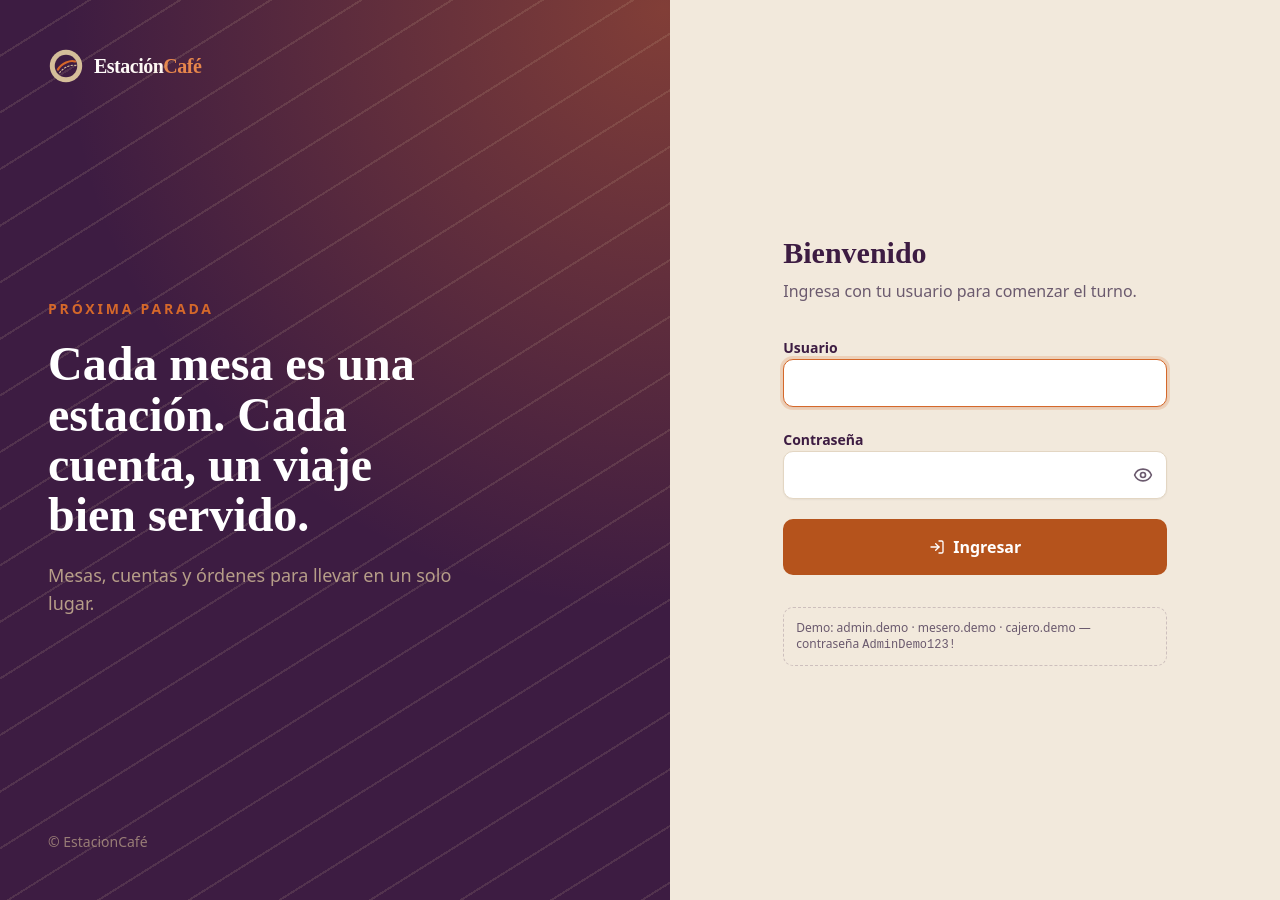
Test: Autenticación y navegación por rol › el mesero entra a su panel de mesas
In the field labelled "Usuario": coordinates (975, 382) [783,358,1167,406], type "mesero.demo"
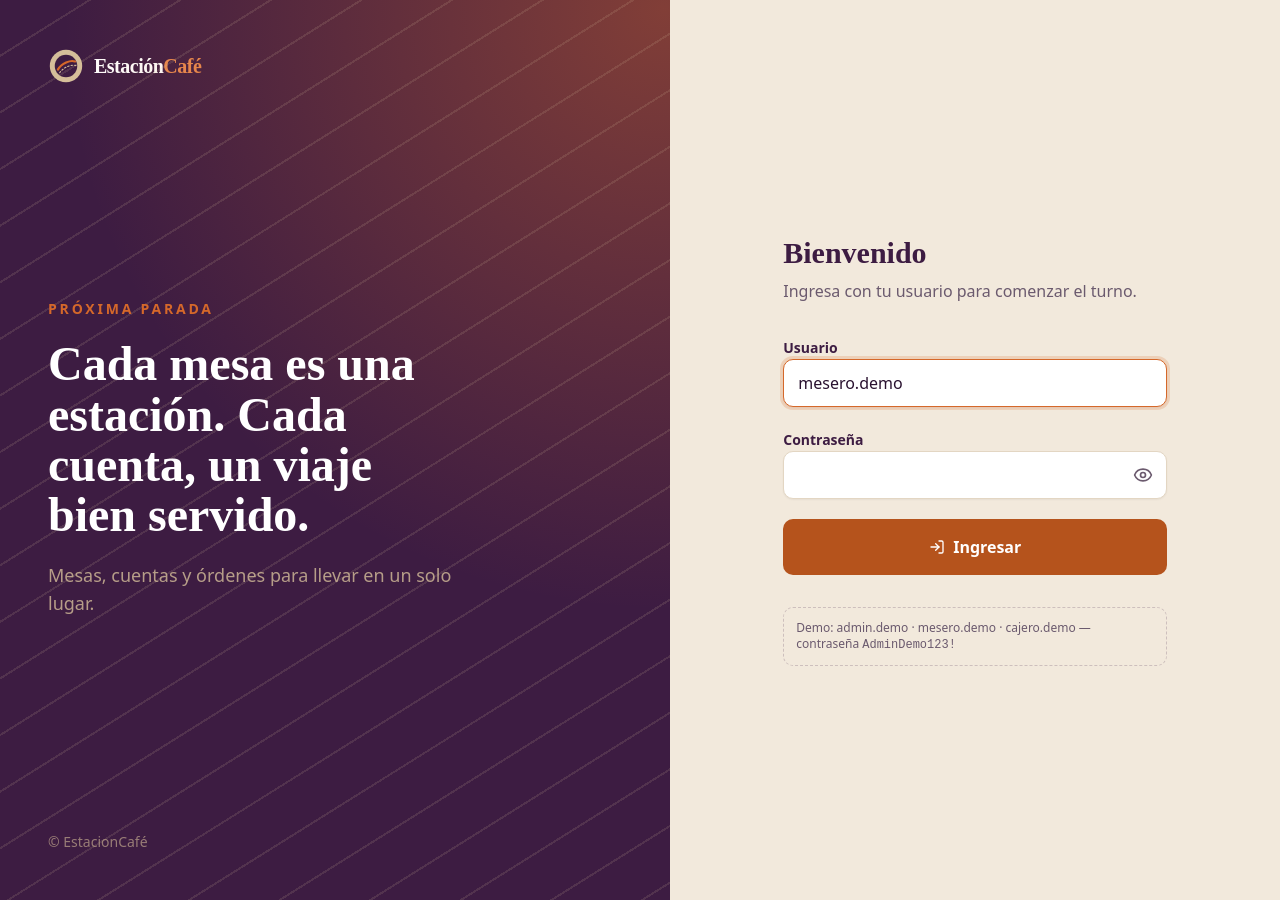
In the password field labelled "Contraseña": coordinates (975, 474) [783,450,1167,498], type "AdminDemo123!"
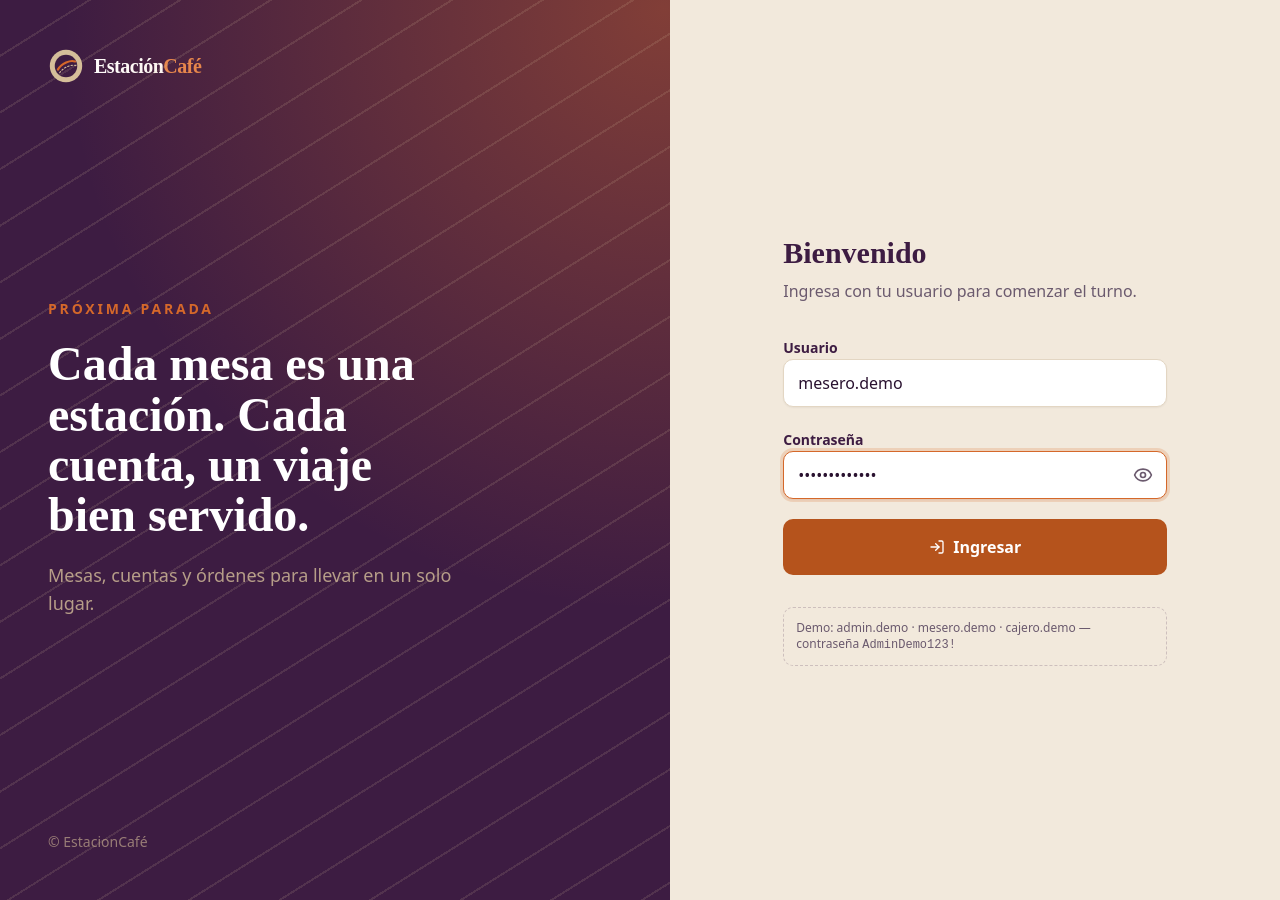
Click the button "Ingresar": coordinates (975, 546) [783,518,1167,574]
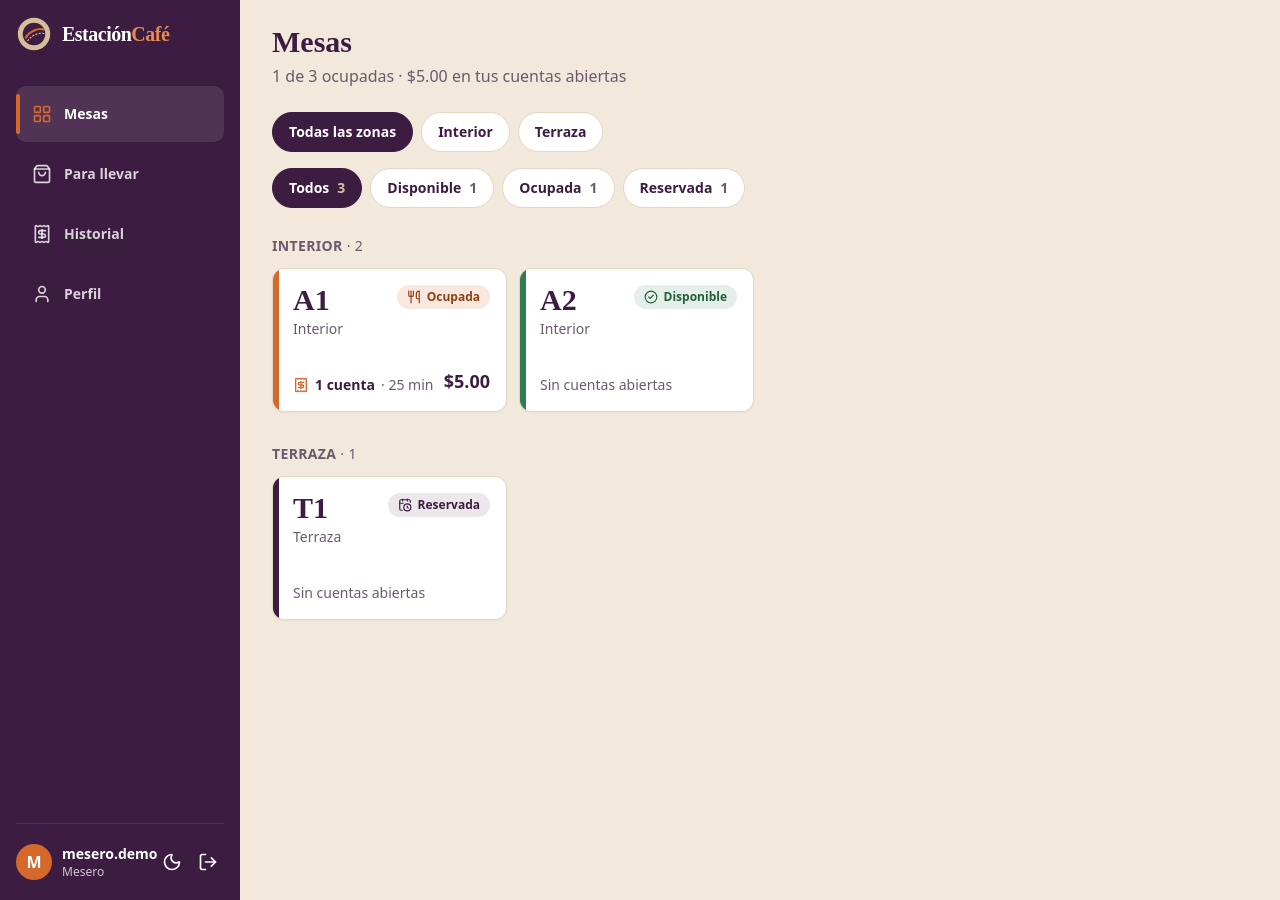
Expected: the heading "Mesas" is shown, [272,25,352,58]
